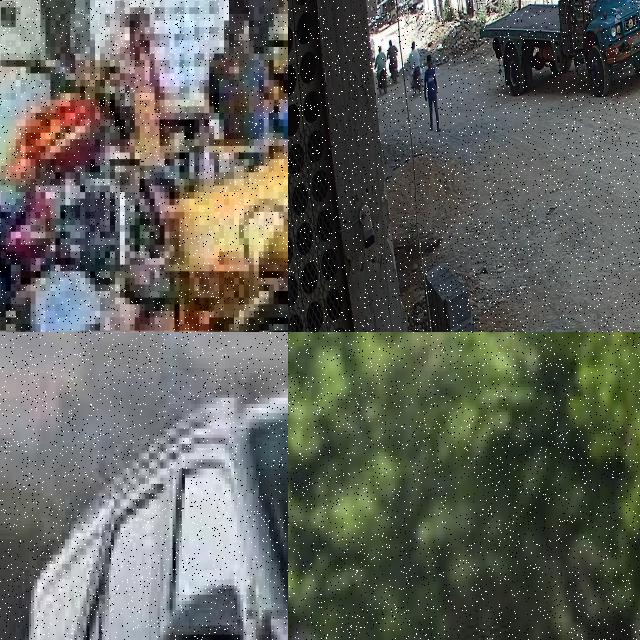bike: (1, 238, 288, 332), (416, 66, 424, 94), (393, 60, 399, 84), (382, 70, 388, 94)
car: (0, 332, 288, 640)
